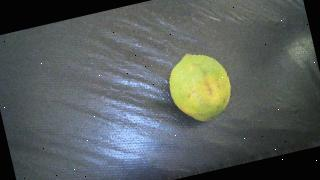DESECHO: (163, 46, 237, 127)
